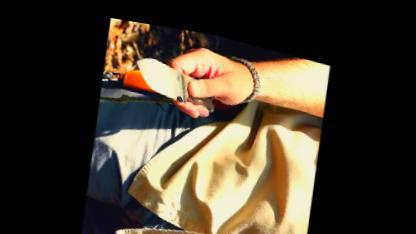knife: (127, 21, 224, 119)
